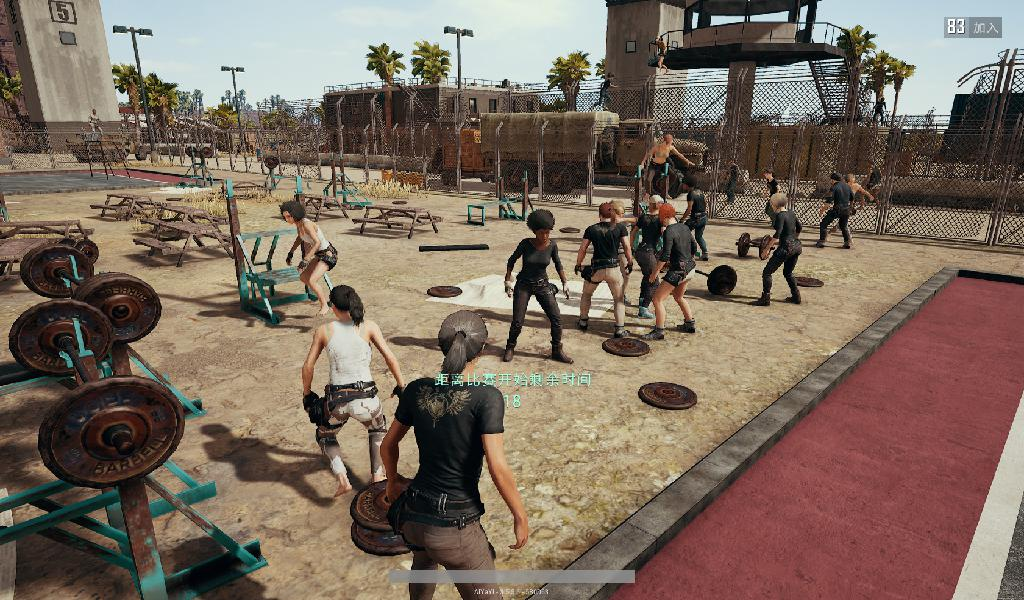Target Person: (377, 309, 532, 600), (302, 285, 408, 507), (498, 208, 574, 367), (276, 199, 339, 323), (576, 202, 627, 338), (648, 205, 693, 341), (757, 193, 802, 308), (633, 196, 669, 328), (636, 131, 696, 206), (815, 173, 854, 256), (679, 181, 708, 266), (755, 165, 779, 245), (861, 159, 883, 217), (721, 153, 743, 211)
